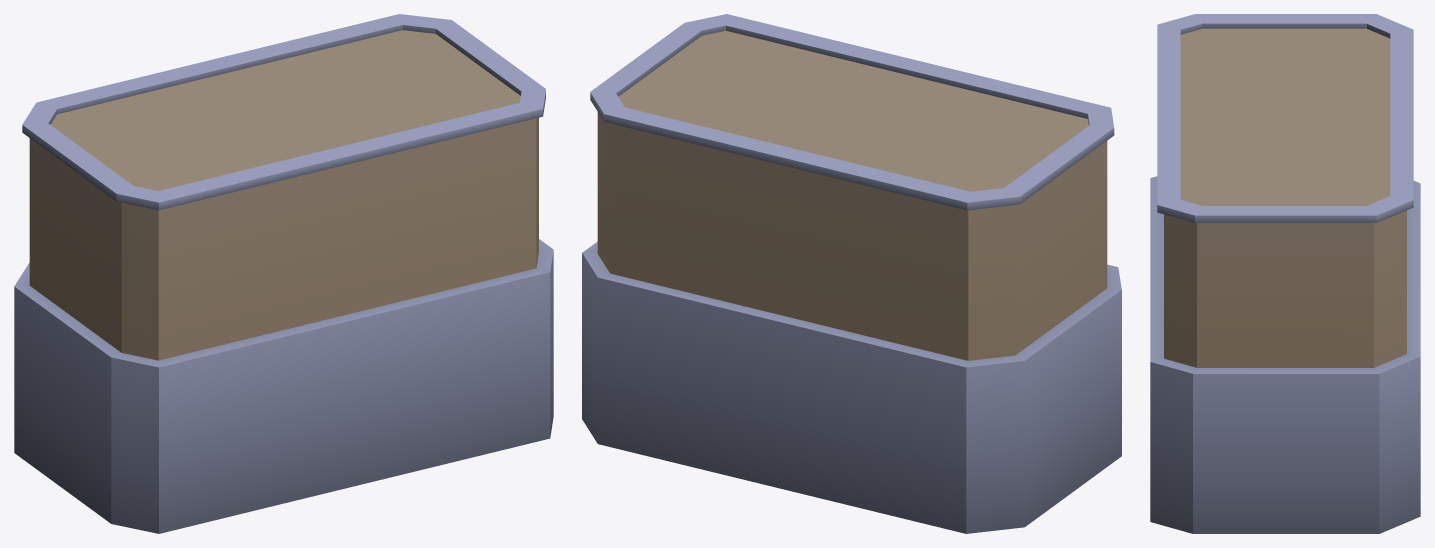
Rendered from spice-isles-headland.glb.
3 views of the same model, side by side, from view 1: azimuth 30°, elevation 25°; view 2: azimuth 150°, elevation 25°; view 3: azimuth 270°, elevation 25° (orthographic). The views are drawn at different scales.
Parts seen in each view (by area): view 1: headland; view 2: headland; view 3: headland.
Part boxes in pixels (box(x1,y1,x2,y2)): headland: box(14, 14, 553, 533); headland: box(582, 14, 1121, 533); headland: box(1150, 14, 1420, 533).
Size of the model in its own units: 8.9 by 6.3 by 4.9.
